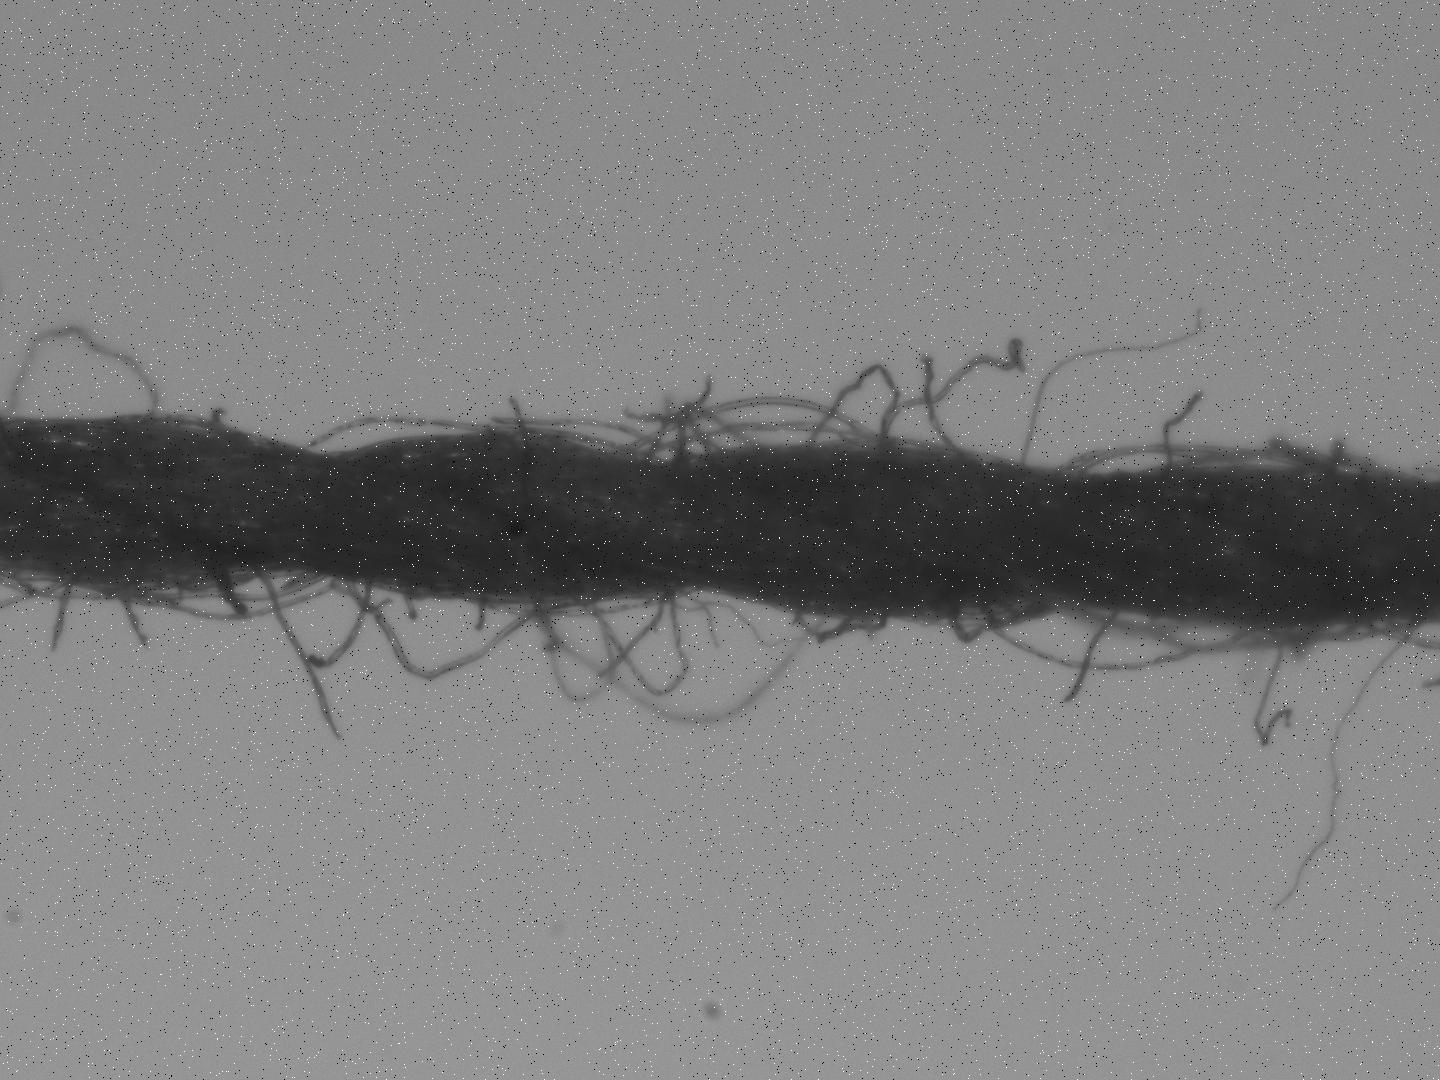loop_fiber: (350, 582, 556, 678), (10, 323, 154, 417), (593, 585, 689, 694), (159, 568, 336, 624), (808, 363, 897, 455), (302, 415, 497, 456), (652, 424, 845, 461), (956, 594, 1062, 643), (1279, 615, 1424, 644), (1081, 446, 1197, 479), (797, 607, 891, 640), (23, 568, 103, 604), (548, 433, 625, 458)
protruding_fiber: (1017, 310, 1204, 462), (265, 569, 342, 737), (1054, 607, 1125, 707), (920, 357, 968, 454), (1160, 391, 1205, 481), (111, 588, 152, 650), (45, 587, 75, 643), (509, 397, 530, 441)
